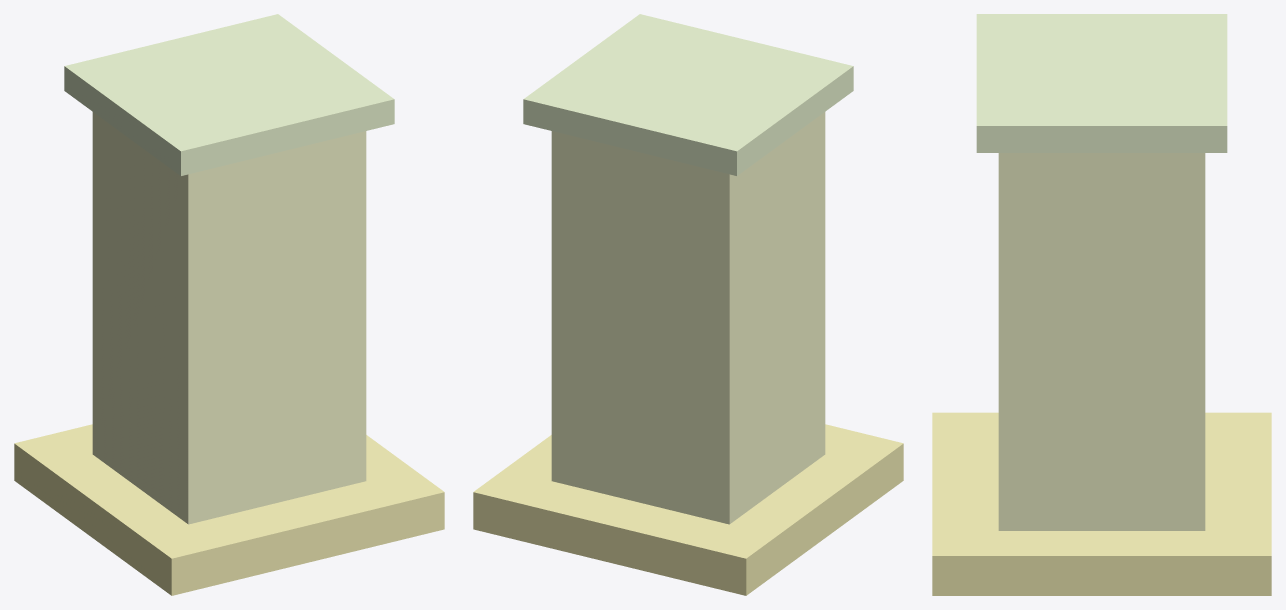
The model's file is furniture_signal_junction_box.glb.
The picture shows the model from 3 angles, left to right: view 1: azimuth 30°, elevation 25°; view 2: azimuth 150°, elevation 25°; view 3: azimuth 270°, elevation 25°; orthographic projection. The views are drawn at different scales.
Parts seen in each view (by area): view 1: box, lid, pad; view 2: box, lid, pad; view 3: box, pad, lid.
Part boxes in pixels (<box>): box: <box>92,112,366,524</box>; lid: <box>64,14,394,175</box>; pad: <box>14,424,444,595</box>; box: <box>551,112,825,524</box>; lid: <box>523,14,853,175</box>; pad: <box>473,424,903,595</box>; box: <box>998,153,1205,530</box>; pad: <box>932,412,1271,595</box>; lid: <box>976,14,1227,152</box>.
Bounding box in the file's own units: 0.46 × 0.68 × 0.46.
